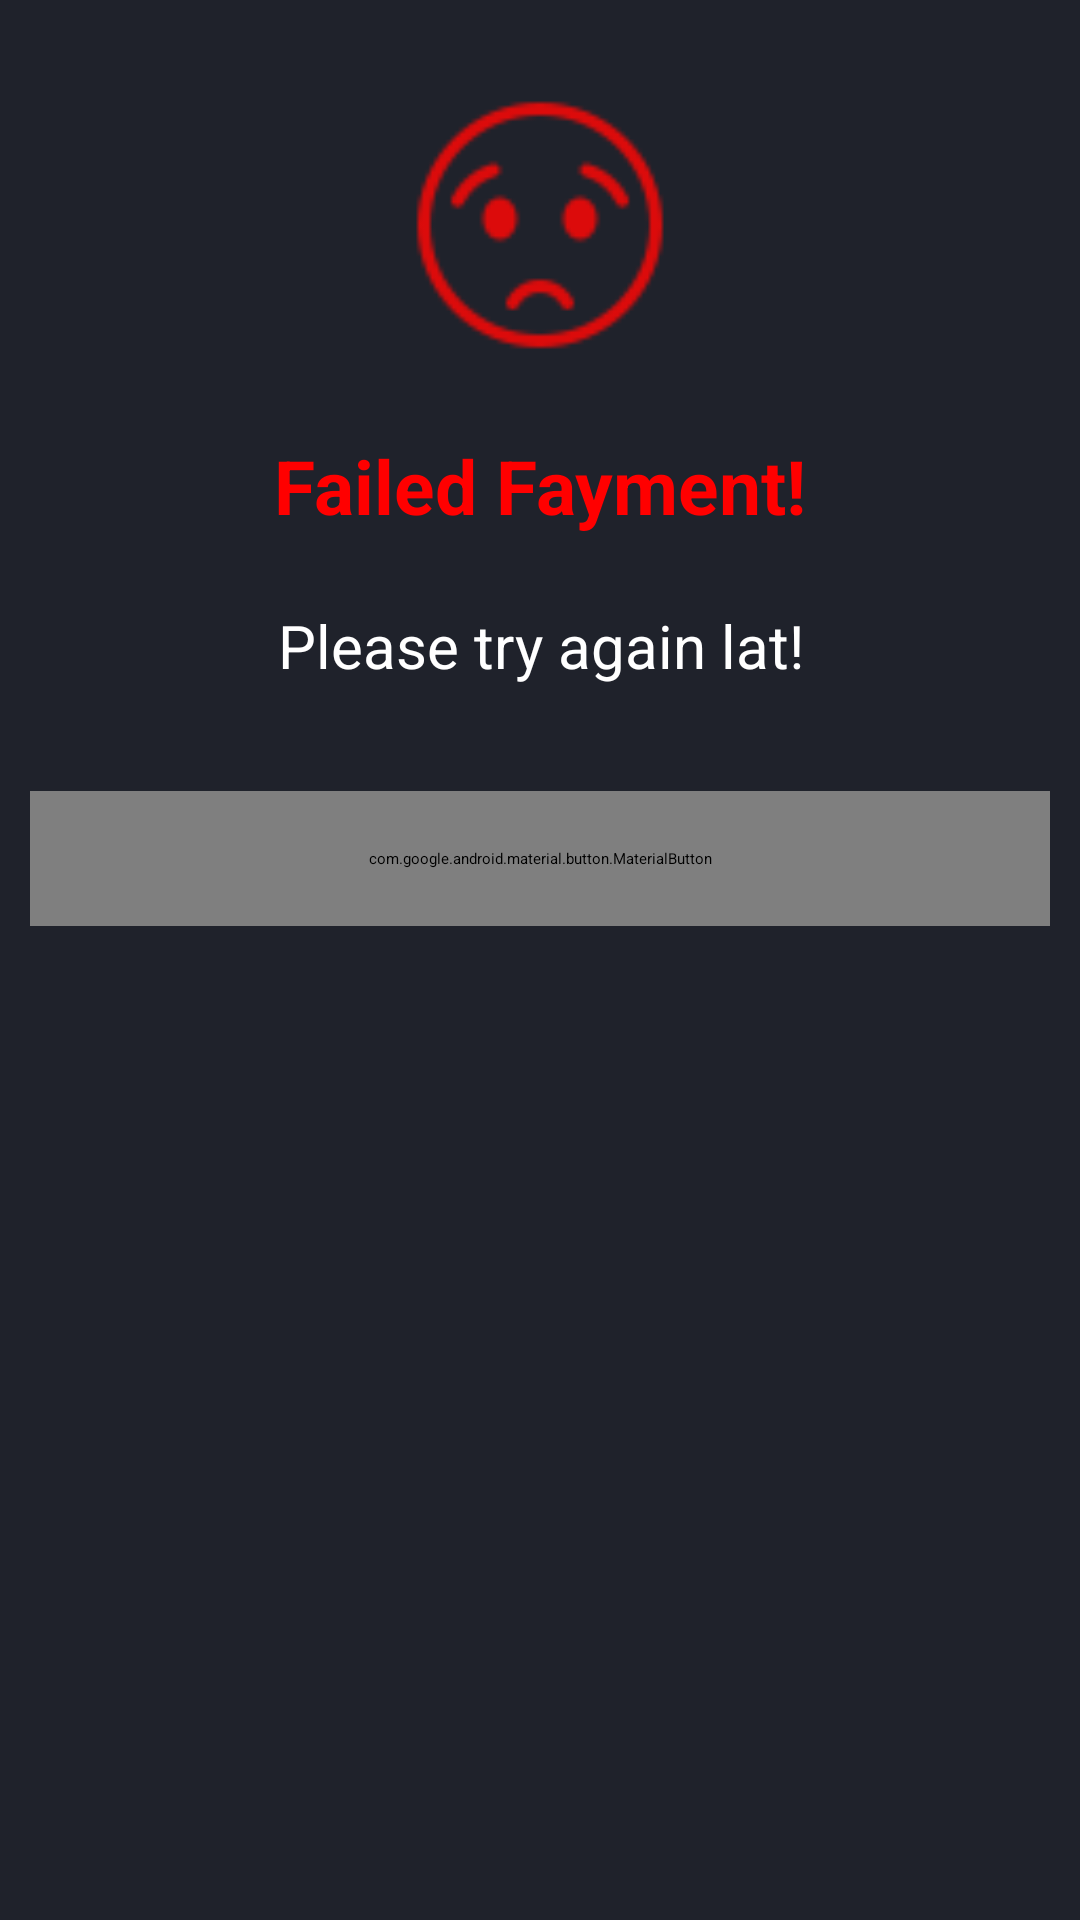

Named icons in this screenshot (1080x1920) and their centers, point (x, y):
sad: point (540, 225)
